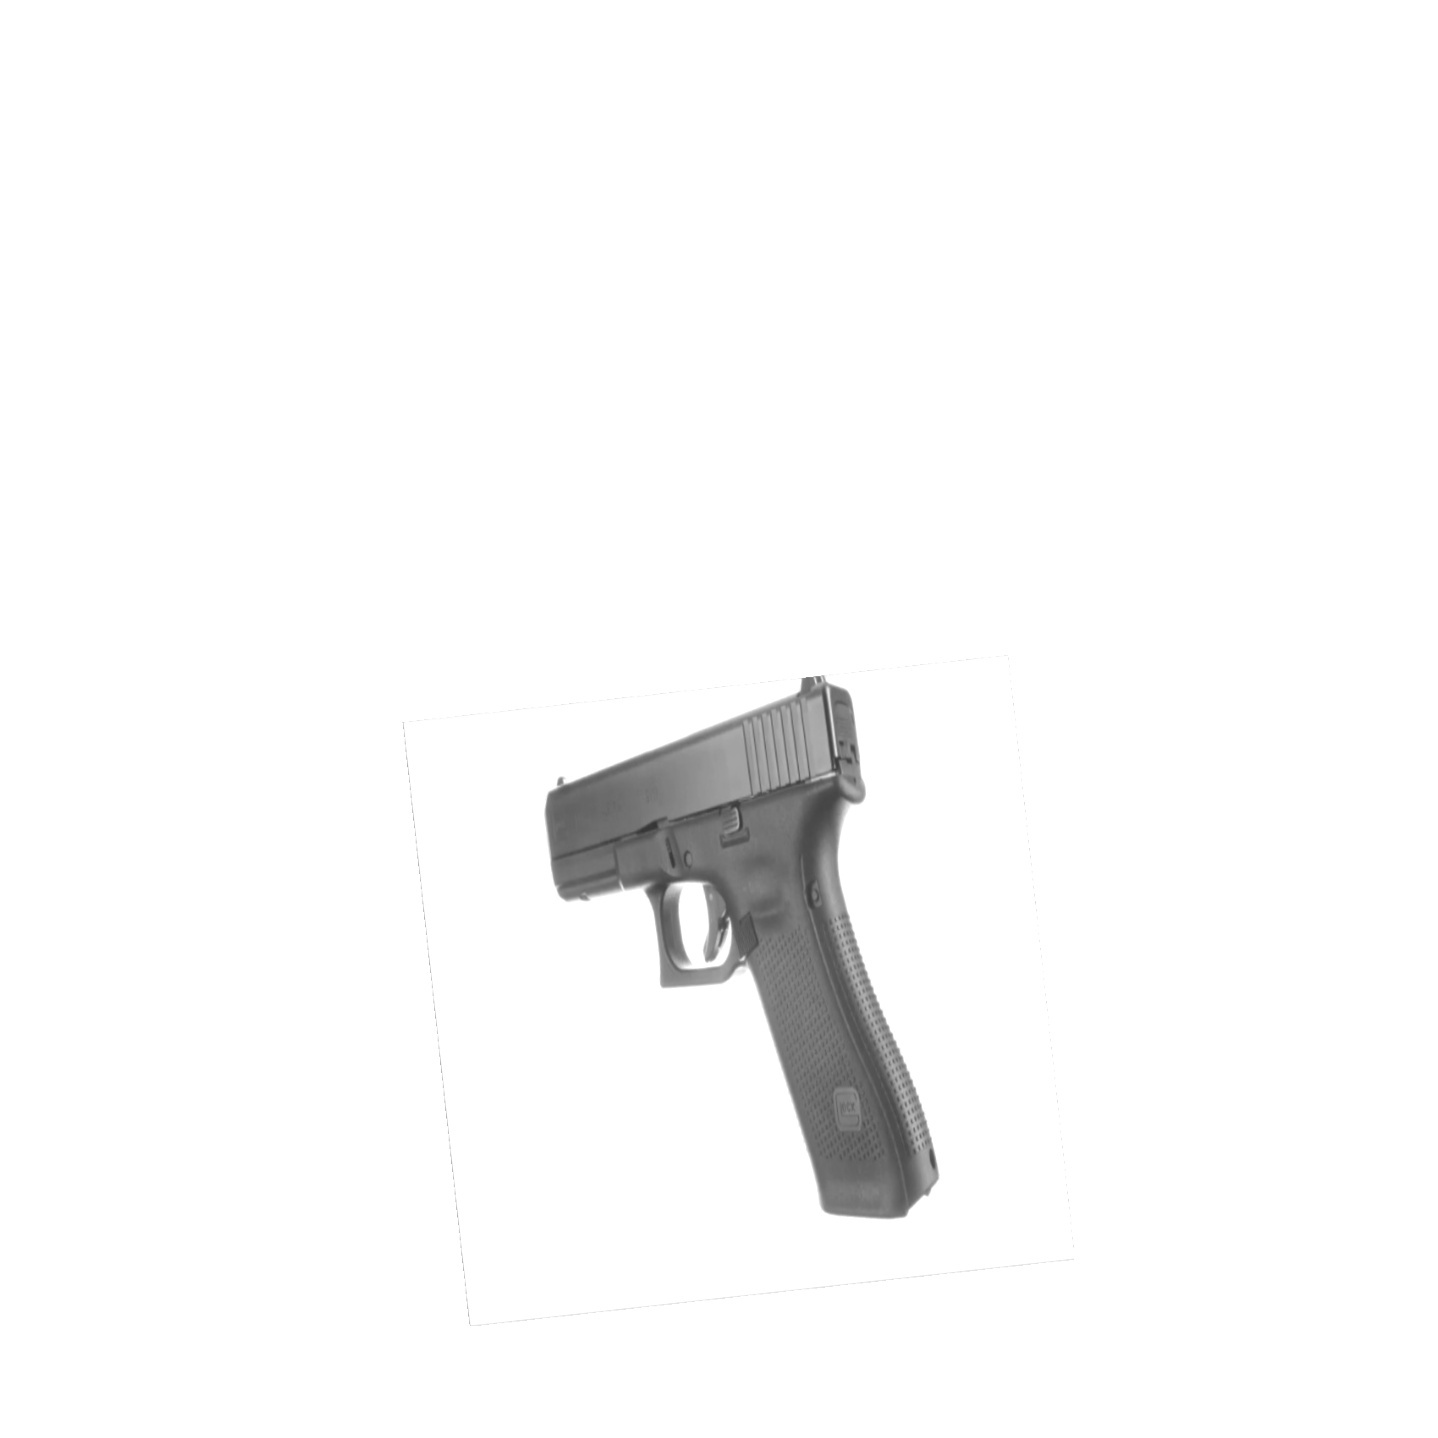gun: (525, 664, 953, 1227)
